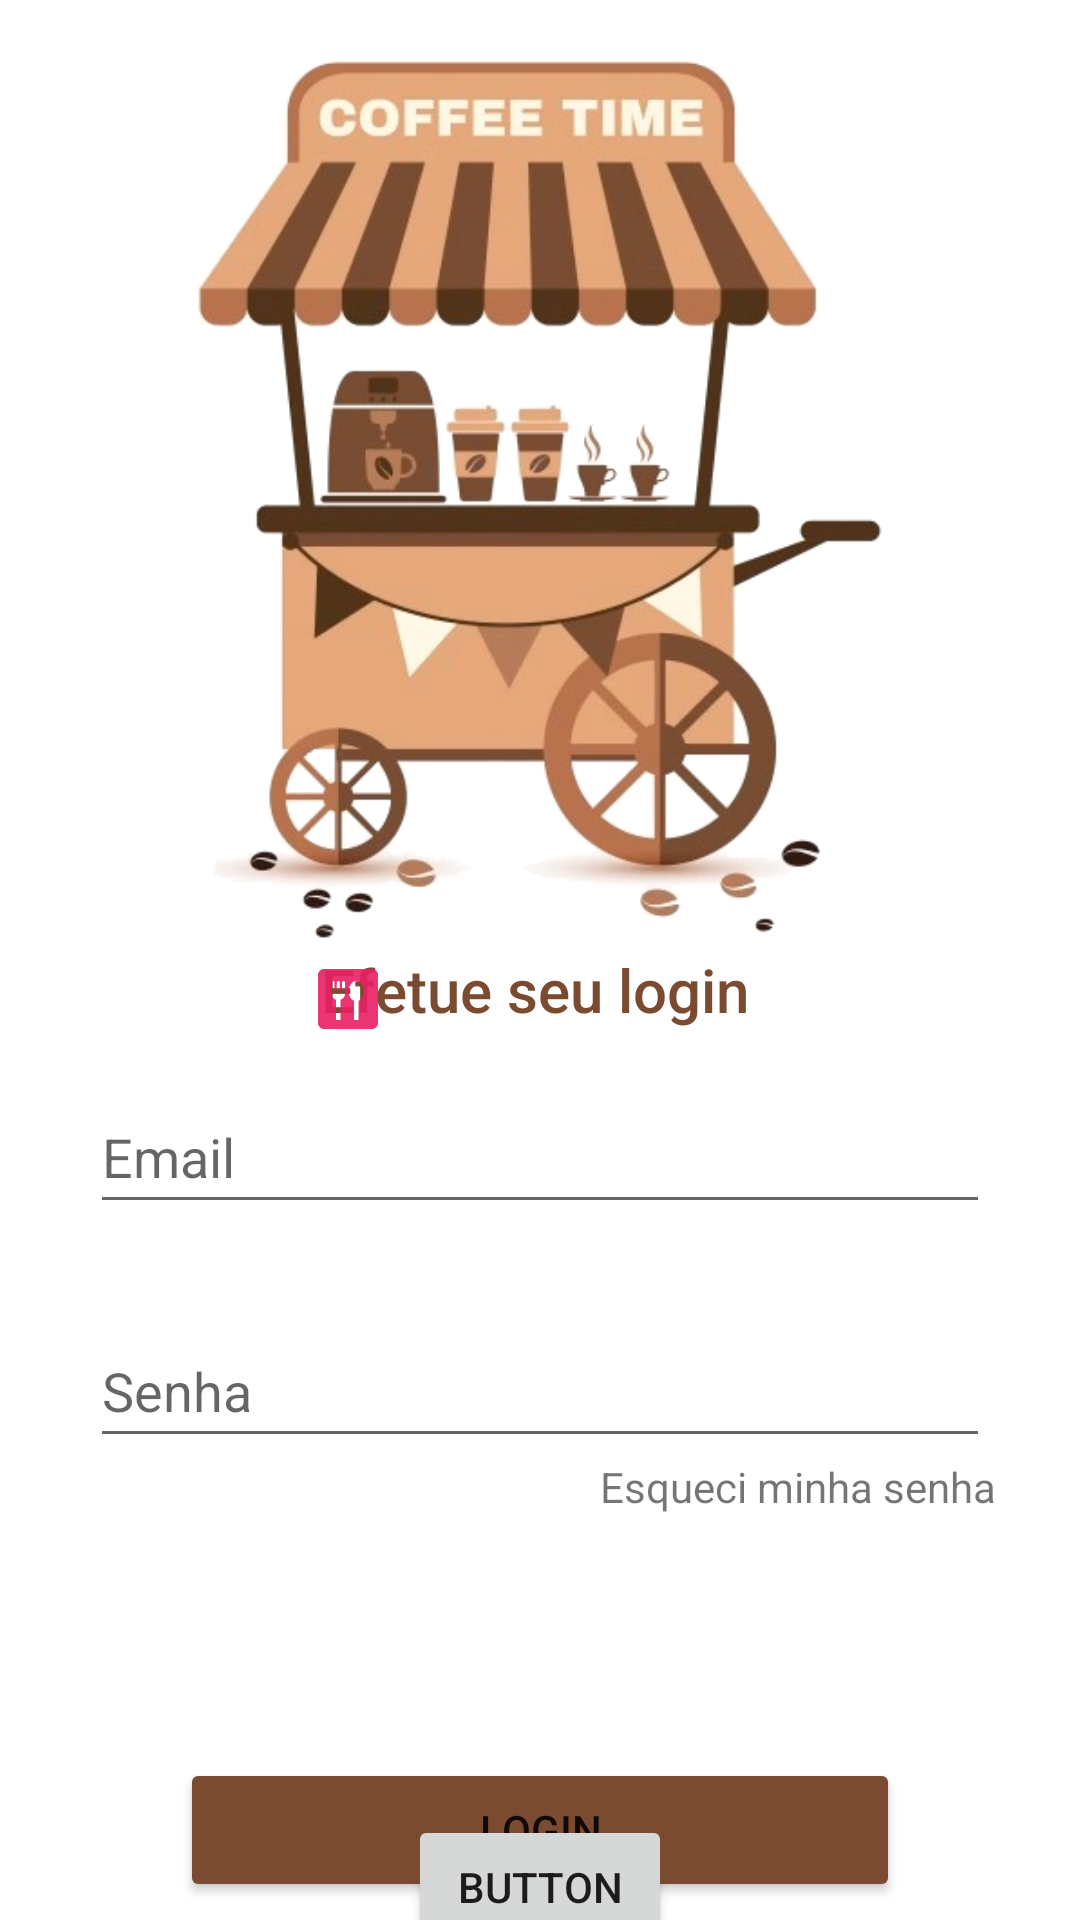

Point at icon controls on the screen. Image size 1080w x 1920h, points as point (x, y).
garfo: point (351, 998)
